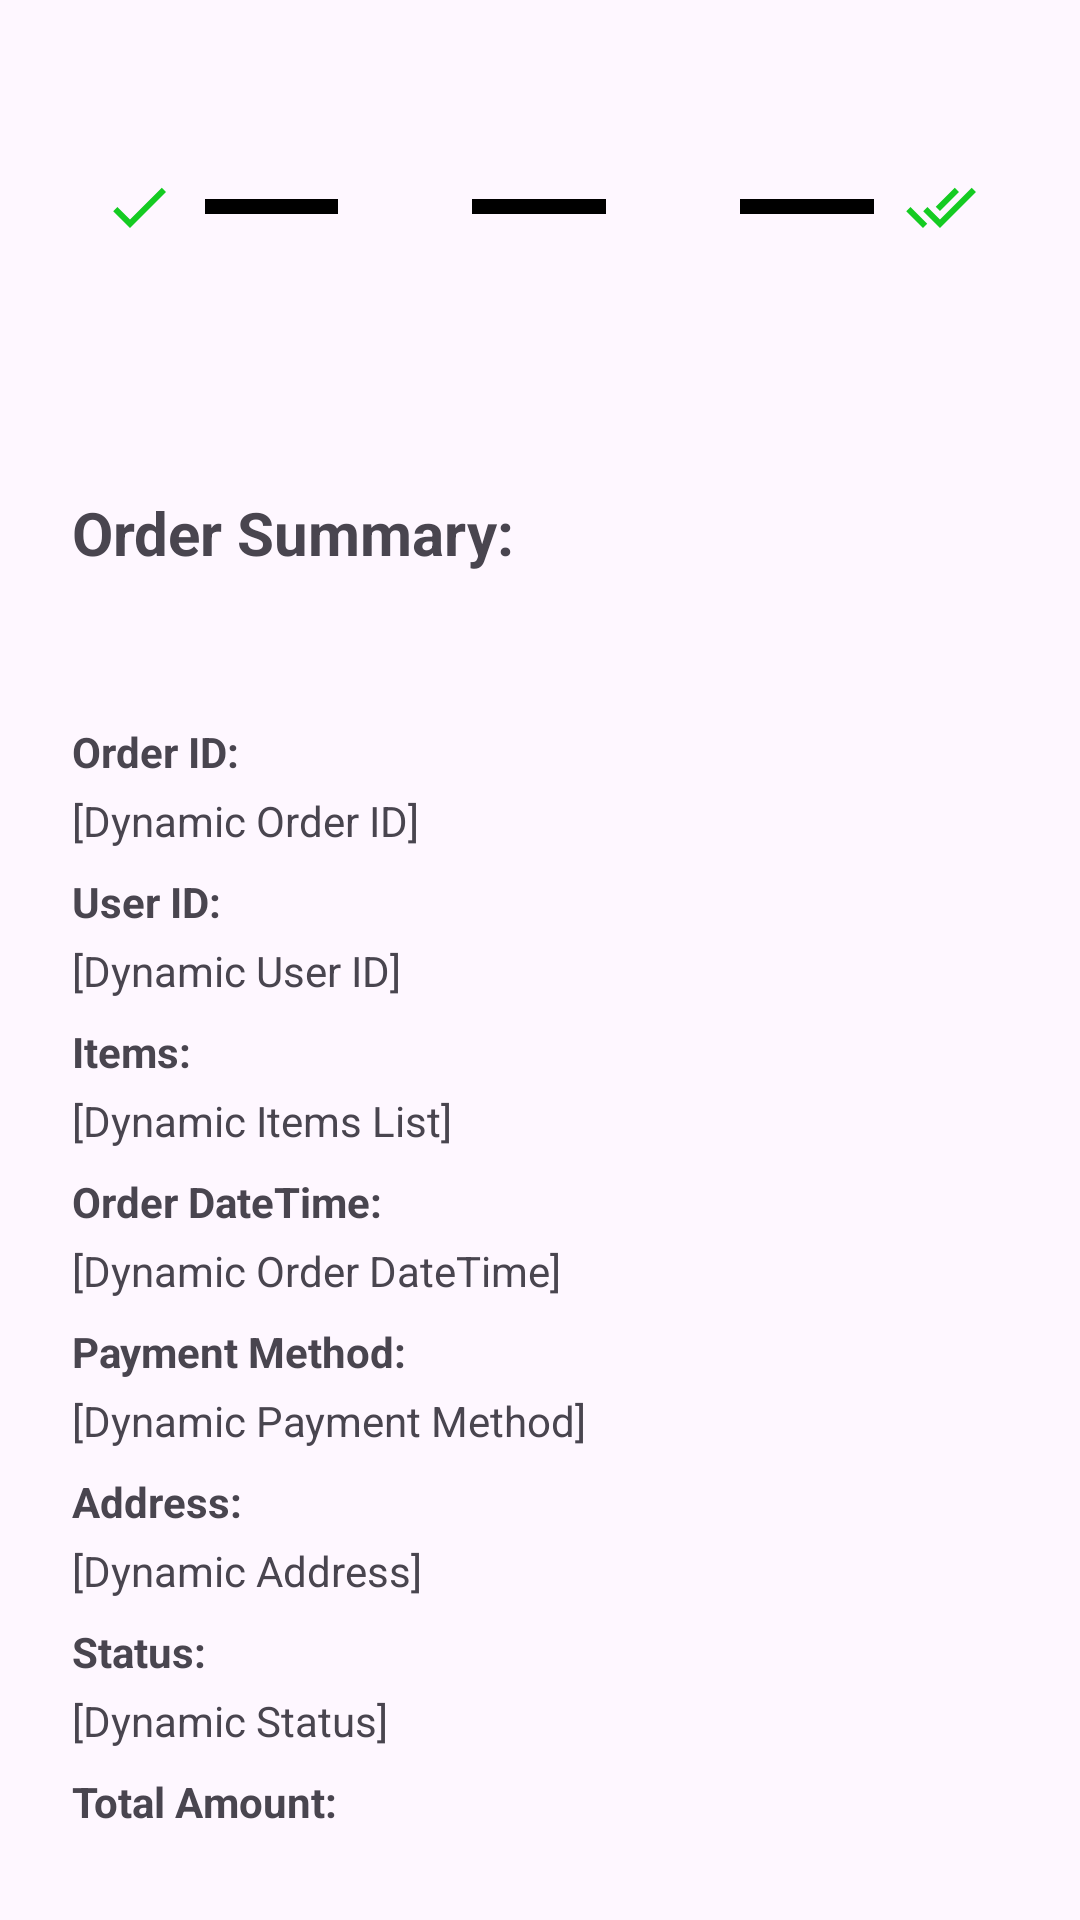

Where icons sit on this 1080 x 1920 app screen, as bbox=[x1, y1, x2, y2]:
confirmed: bbox=[113, 188, 166, 228]
delivered: bbox=[906, 188, 976, 228]
